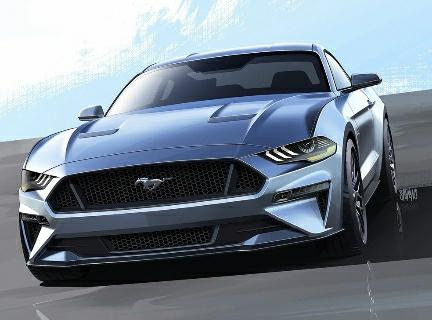car: (16, 41, 416, 284)
